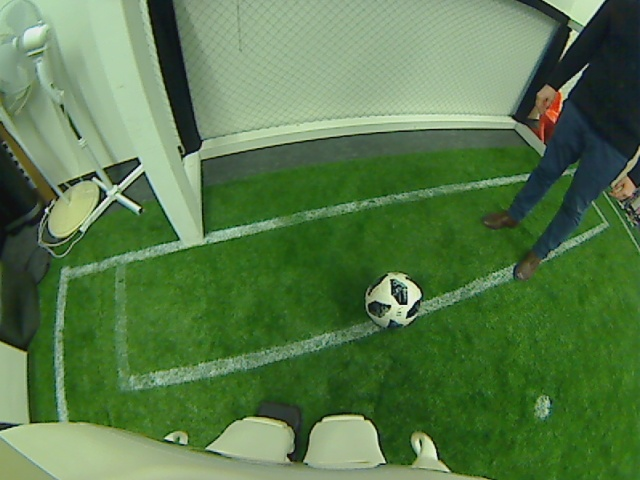ball: (361, 269, 425, 329)
